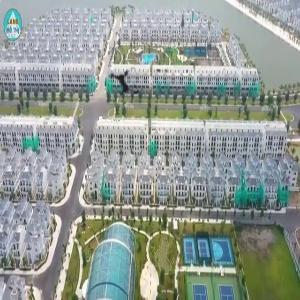drone: (90, 47, 165, 122)
